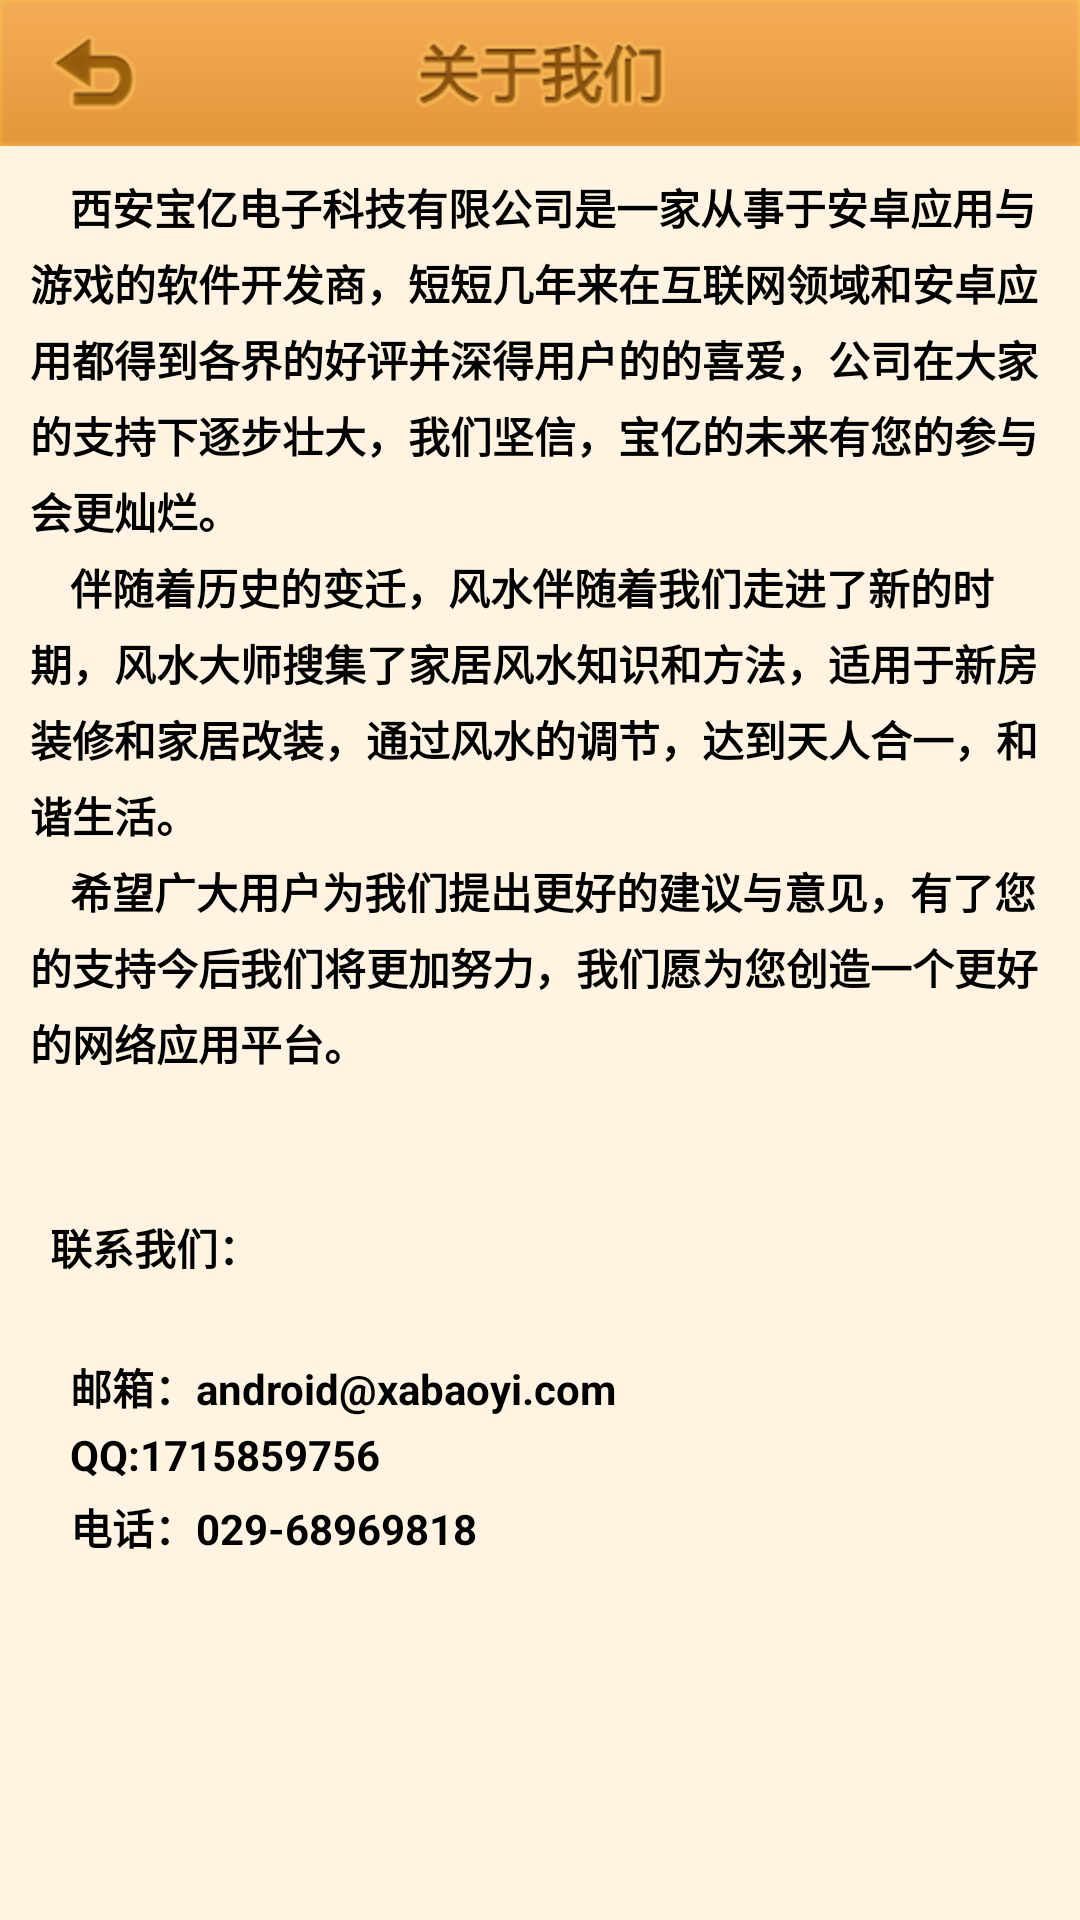

Named icons in this screenshot (1080px x 1920px) and their centers, [x,y]:
back top: [94,79]
